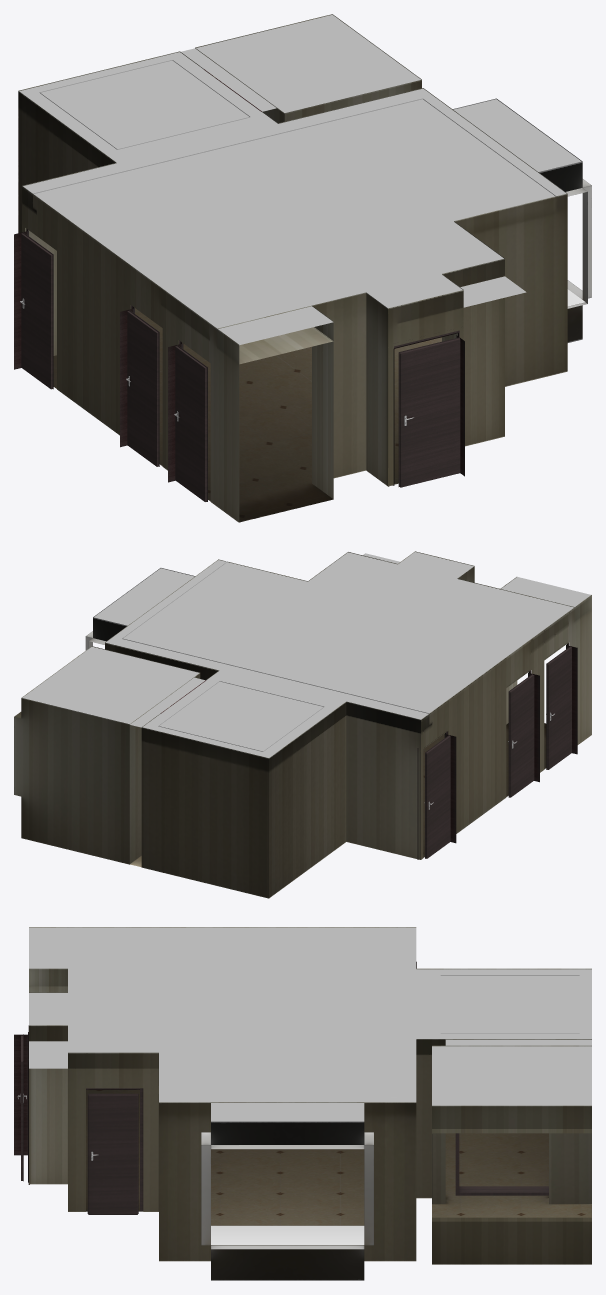
The model's file is home2.FBX.
3 views of the same model, one above another, from view 1: azimuth 30°, elevation 25°; view 2: azimuth 150°, elevation 25°; view 3: azimuth 270°, elevation 25° (orthographic). The views are drawn at different scales.
Visible parts, largest first — view 1: 天花板, Group1983821204, 地面, obj_122, obj_125, obj_124, obj_123, 阳台, Object034, Object035, Object036, Object037; view 2: Group1983821204, 天花板, obj_124, obj_125, obj_123, Object037, 阳台, 地面, Object035, Object036; view 3: 天花板, Group1983821204, 地面, 阳台, 门, 阳台台面, Object034, 牙口, 门框, obj_122.
Part boxes in pixels (bbox=[...]): 天花板: bbox=[19, 15, 581, 345]; Group1983821204: bbox=[18, 14, 567, 522]; 地面: bbox=[53, 305, 441, 522]; obj_122: bbox=[398, 337, 460, 487]; obj_125: bbox=[20, 232, 53, 389]; obj_124: bbox=[126, 309, 159, 466]; obj_123: bbox=[174, 345, 207, 501]; 阳台: bbox=[452, 98, 591, 342]; Object034: bbox=[388, 330, 464, 486]; Object035: bbox=[168, 340, 183, 482]; Object036: bbox=[120, 305, 134, 447]; Object037: bbox=[14, 228, 28, 369]; Group1983821204: bbox=[14, 551, 591, 898]; 天花板: bbox=[22, 552, 590, 757]; obj_124: bbox=[508, 674, 534, 797]; obj_125: bbox=[424, 735, 450, 858]; obj_123: bbox=[546, 646, 571, 769]; Object037: bbox=[417, 731, 456, 859]; 阳台: bbox=[85, 568, 194, 650]; 地面: bbox=[130, 723, 546, 867]; Object035: bbox=[566, 642, 577, 754]; Object036: bbox=[528, 670, 539, 782]; 天花板: bbox=[29, 928, 591, 1121]; Group1983821204: bbox=[29, 927, 591, 1264]; 地面: bbox=[86, 1090, 591, 1225]; 阳台: bbox=[201, 1121, 373, 1280]; 门: bbox=[87, 1093, 138, 1214]; 阳台台面: bbox=[211, 1225, 364, 1244]; Object034: bbox=[14, 1025, 29, 1184]; 牙口: bbox=[455, 1133, 548, 1195]; 门框: bbox=[86, 1088, 143, 1210]; obj_122: bbox=[17, 1034, 26, 1181].
Bounding box in the file's own units: 7389 × 2712 × 8888.
